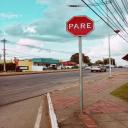Pare: (64, 13, 96, 37)
